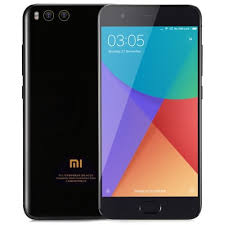mi: (98, 3, 203, 222), (19, 2, 102, 219)
